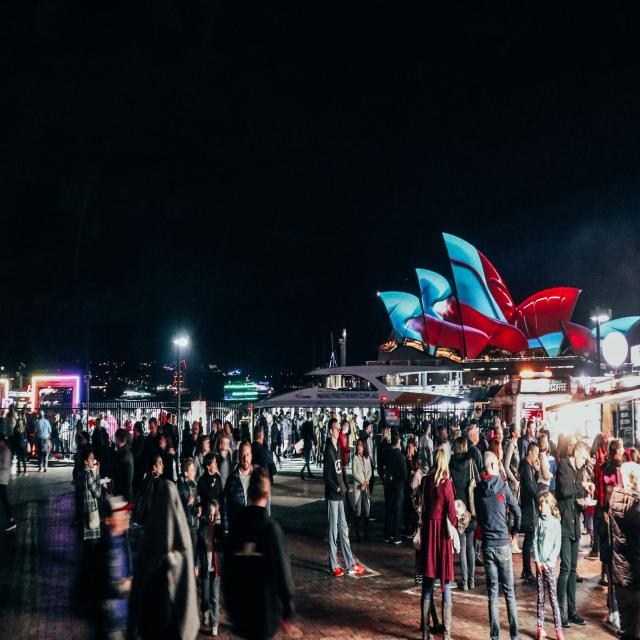body: (251, 405, 551, 469), (215, 464, 298, 640), (0, 402, 251, 460), (126, 478, 200, 640), (412, 444, 473, 640), (553, 421, 640, 546), (471, 448, 525, 640), (555, 440, 596, 629), (604, 458, 640, 640), (324, 418, 365, 576), (531, 487, 568, 640), (447, 435, 482, 592), (127, 452, 165, 577), (195, 498, 225, 636), (108, 427, 134, 579), (596, 481, 621, 629), (220, 440, 256, 537), (519, 441, 541, 585), (584, 432, 608, 560), (383, 431, 409, 546), (176, 459, 202, 556), (80, 448, 102, 555), (503, 422, 522, 542), (196, 452, 225, 530), (71, 430, 92, 532), (352, 436, 372, 543), (293, 410, 318, 481), (0, 431, 17, 532), (250, 424, 277, 487), (338, 418, 356, 510), (193, 434, 222, 487), (143, 431, 173, 482), (358, 419, 376, 502), (131, 420, 148, 502), (602, 438, 626, 495), (141, 416, 161, 481), (32, 409, 52, 474), (10, 417, 31, 476), (377, 425, 392, 506), (214, 433, 234, 491), (91, 418, 110, 478), (464, 423, 484, 478), (536, 434, 554, 494), (487, 438, 508, 485), (178, 421, 200, 465), (418, 419, 434, 476), (470, 418, 490, 459), (433, 424, 452, 466), (520, 420, 538, 463), (269, 414, 282, 470), (545, 442, 558, 498), (4, 404, 18, 456), (408, 454, 426, 492), (542, 429, 559, 467), (171, 413, 180, 482), (404, 437, 420, 474), (162, 412, 175, 454), (448, 417, 462, 456), (255, 408, 269, 443), (563, 433, 578, 458), (181, 420, 191, 454), (229, 428, 242, 453), (74, 419, 84, 447), (125, 419, 133, 449), (223, 420, 233, 443), (100, 411, 109, 432)
